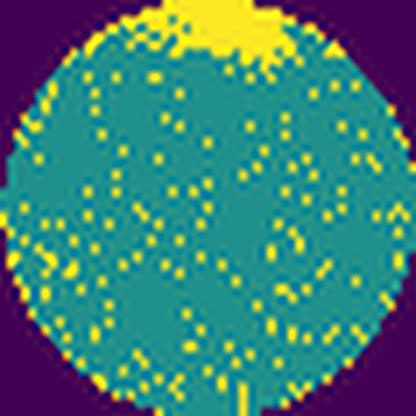Edge-Loc: (119, 0, 309, 67)
